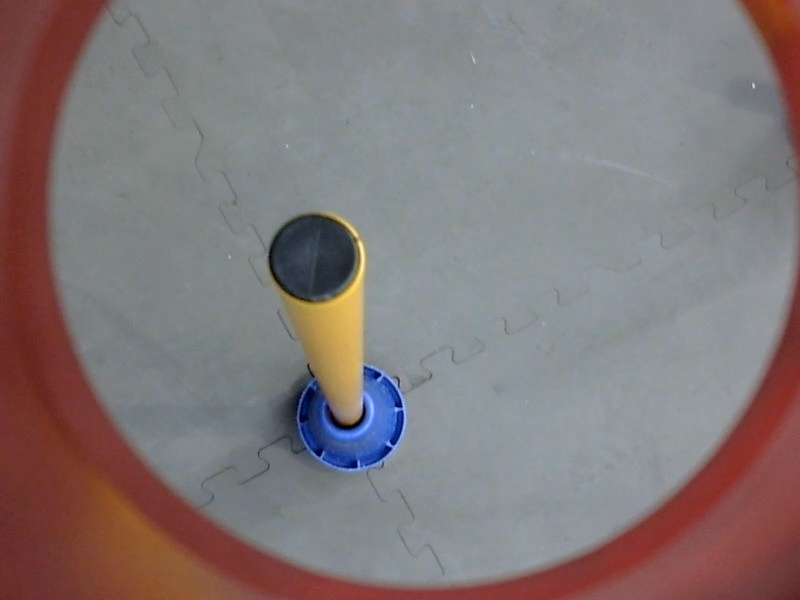tip: (260, 205, 375, 307)
